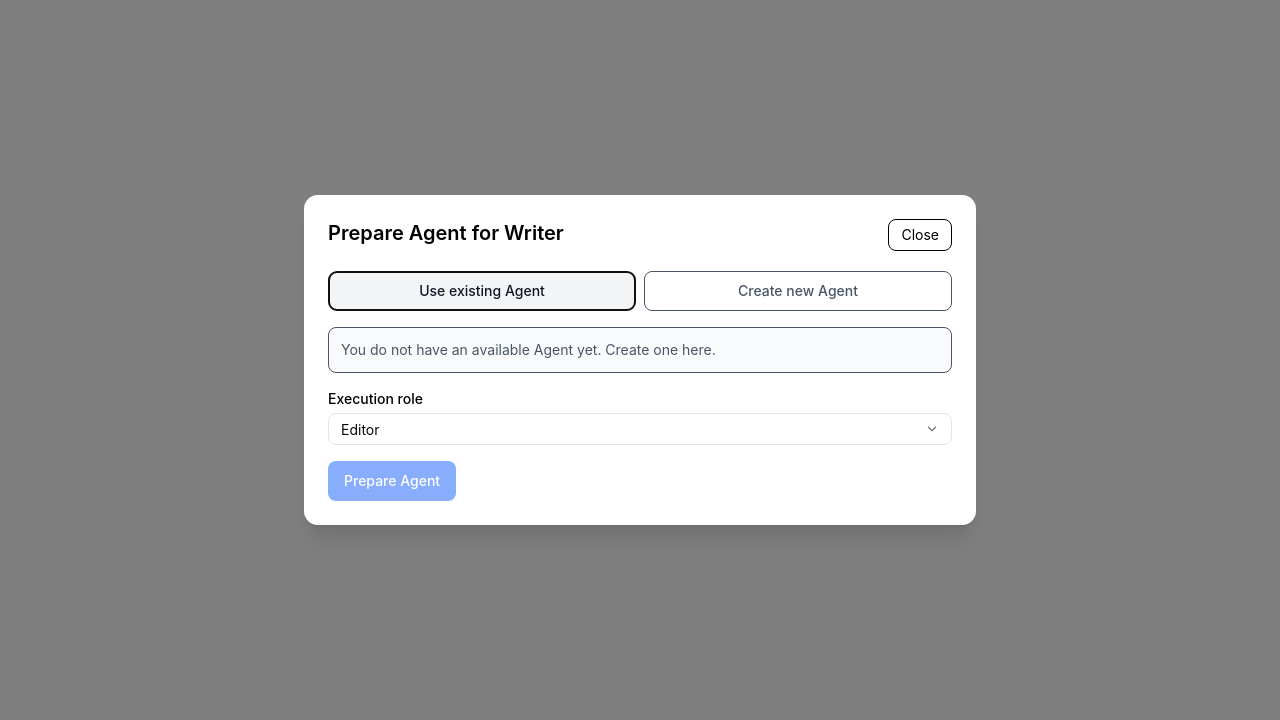
Test case: AgentPreparationDialog › creates and grants an Agent, then shows the one-time instruction only in component state
The width and height of the screenshot is (1280, 720).
Click the tab "Create new Agent".
click(798, 291)  # box 644,271 -> 952,311
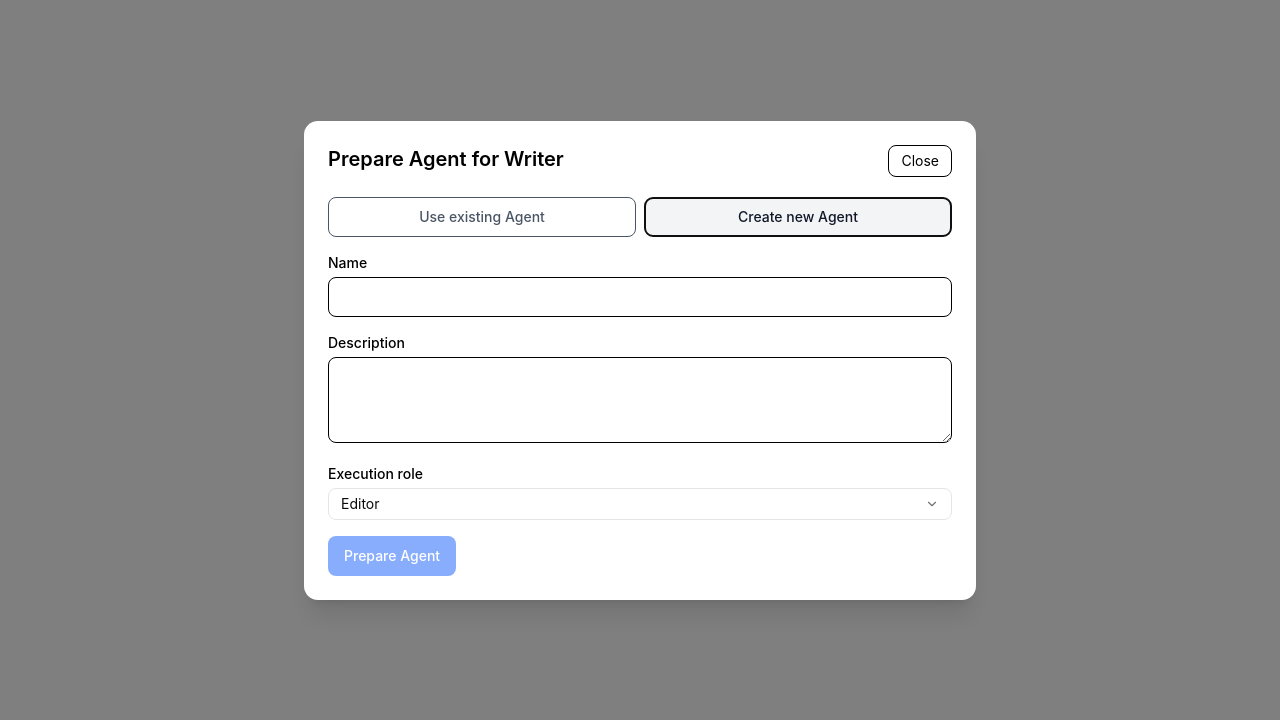
Type "Chapter Writer" into the field labelled "Name".
click(640, 296); type("Chapter Writer")  # box 328,276 -> 952,316
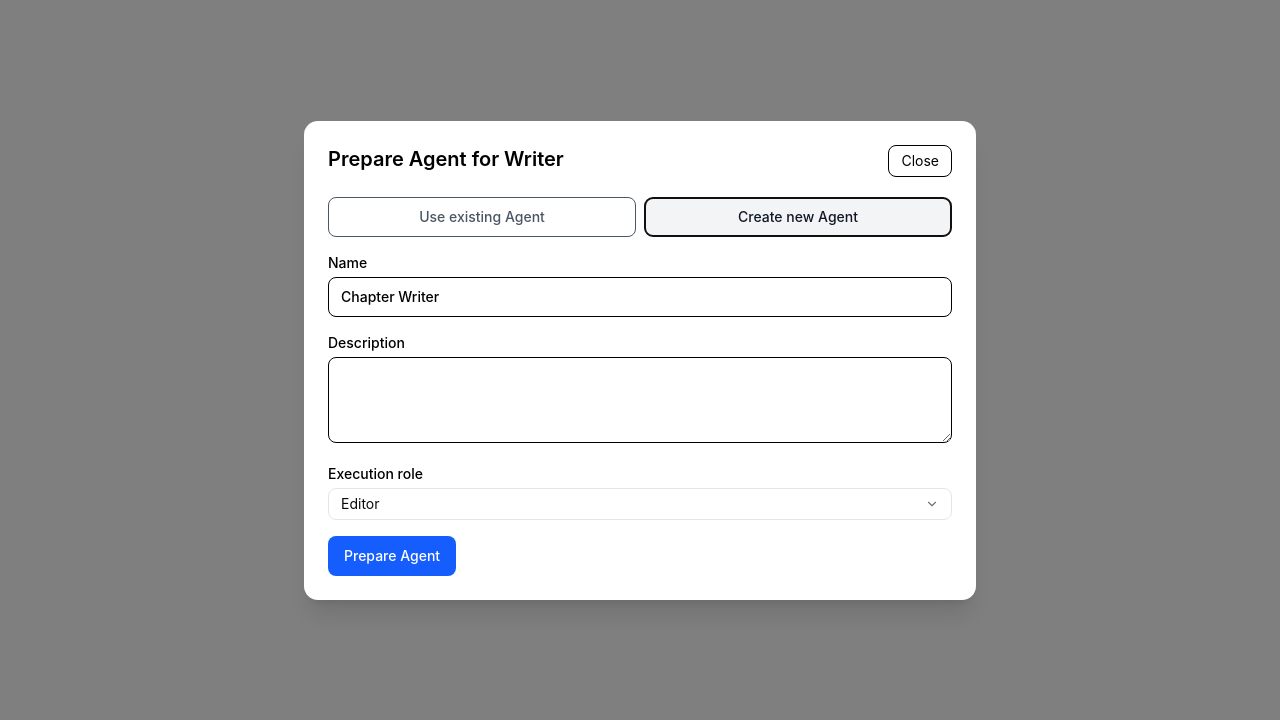
Click the button "Prepare Agent".
click(392, 556)  # box 328,536 -> 456,576
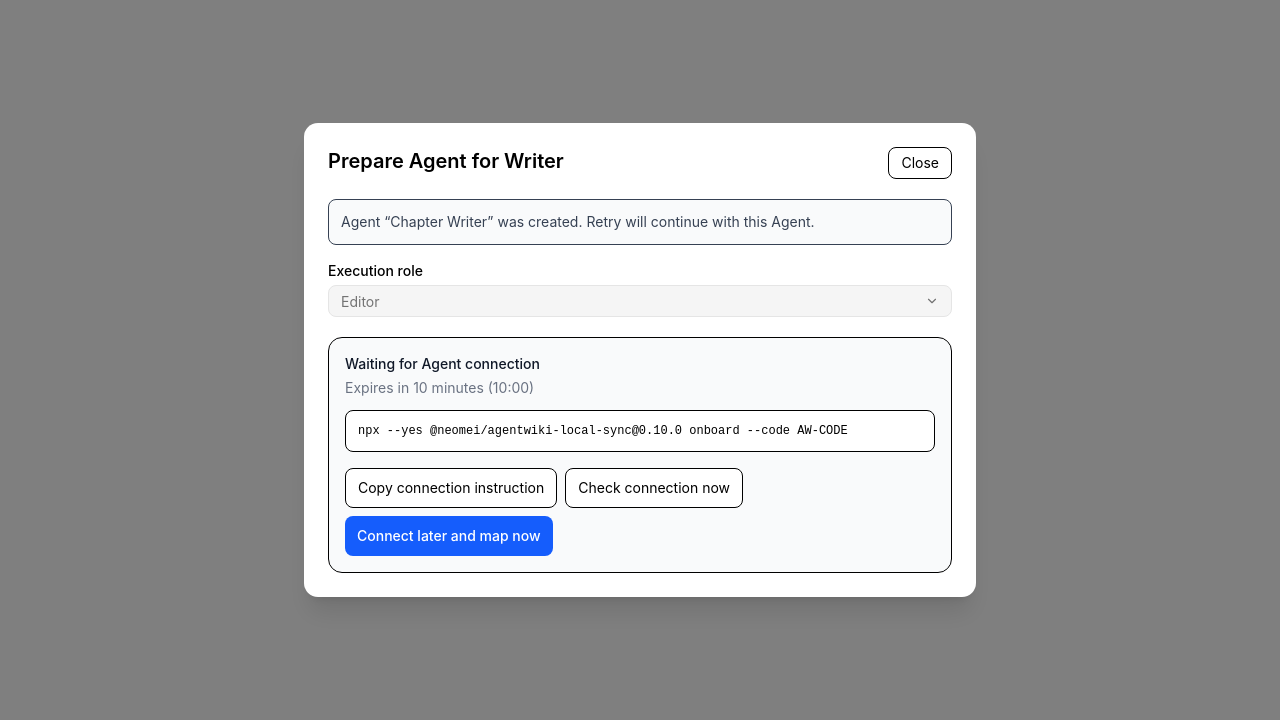
Expected: the text "onboard --code AW-CODE" is shown, 358,424 -> 848,438
Expected: the text "Waiting for Agent connection" is shown, 345,355 -> 540,372
